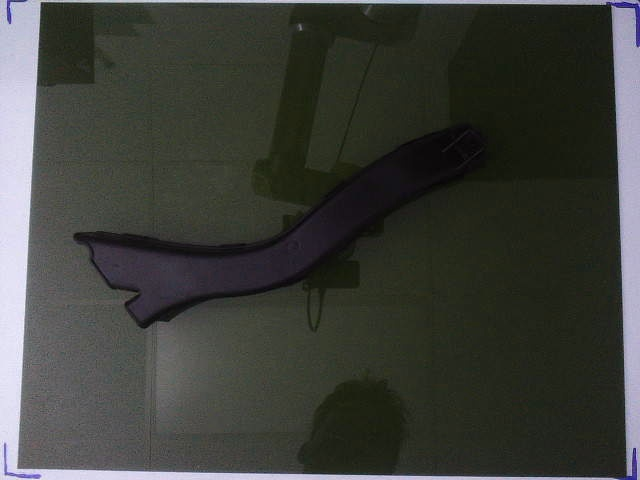887_B-Top: (74, 126, 486, 326)
